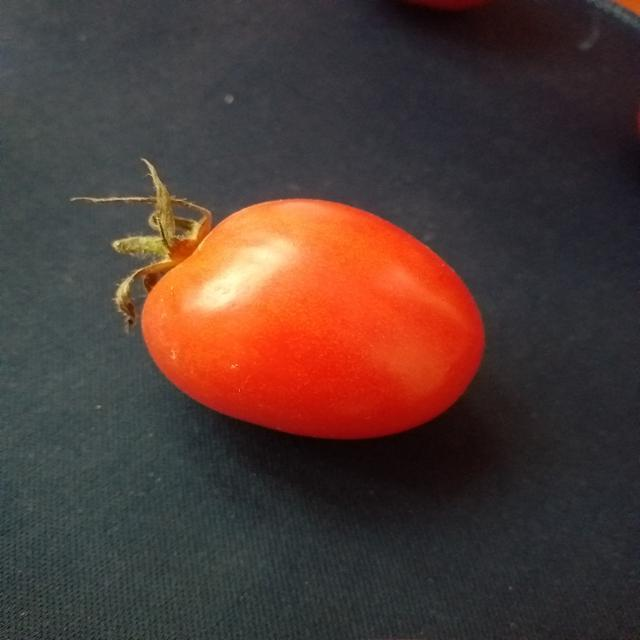tomato: (104, 161, 530, 456)
